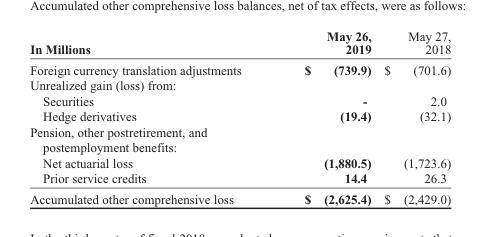table: (29, 28, 450, 205)
table column: (29, 28, 272, 205), (272, 28, 377, 205), (377, 28, 450, 205)
table column header: (29, 28, 450, 59)
table projected row header: (29, 123, 450, 154), (29, 77, 450, 92)
table row: (29, 28, 450, 59), (29, 123, 450, 154), (29, 59, 450, 77), (29, 170, 450, 188), (29, 188, 450, 205), (29, 92, 450, 108), (29, 154, 450, 170), (29, 77, 450, 92), (29, 108, 450, 123)
